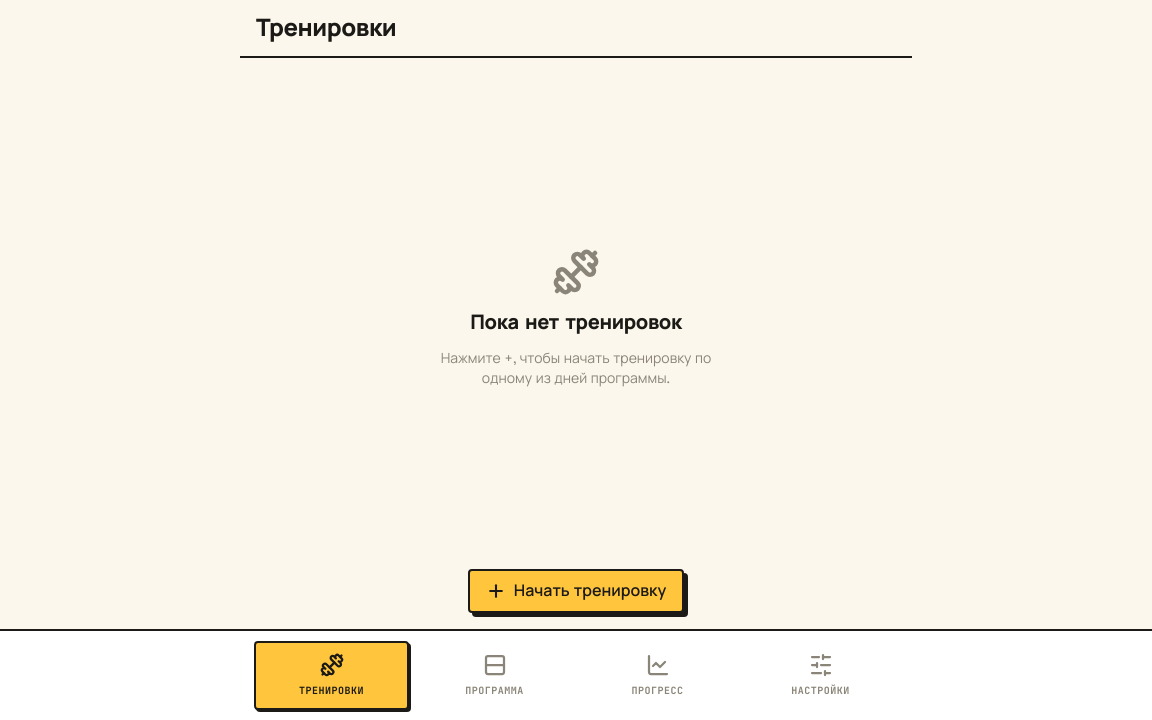
Test: Inline workout loop › finishing confirms in a bottom drawer and returns to the list
Click the button "Начать тренировку". click: (576,591)
box: 468,569 -> 684,613
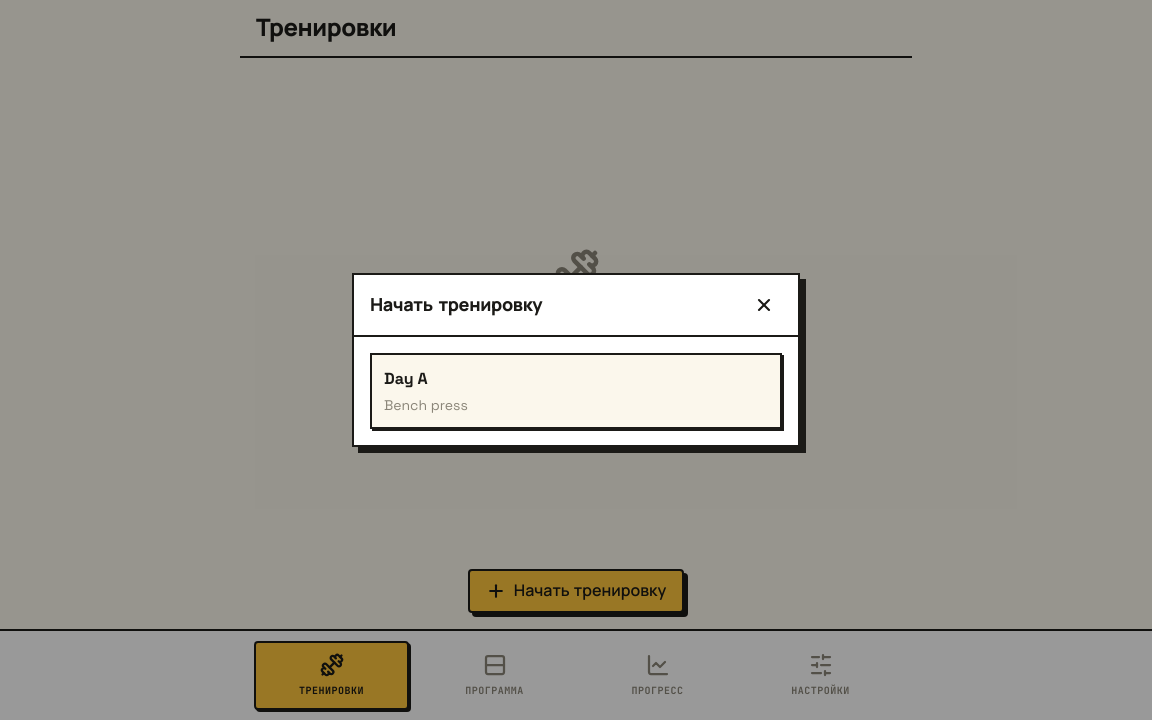
Click the button "Day A Bench press". click: (406,378)
box: 370,353 -> 782,429
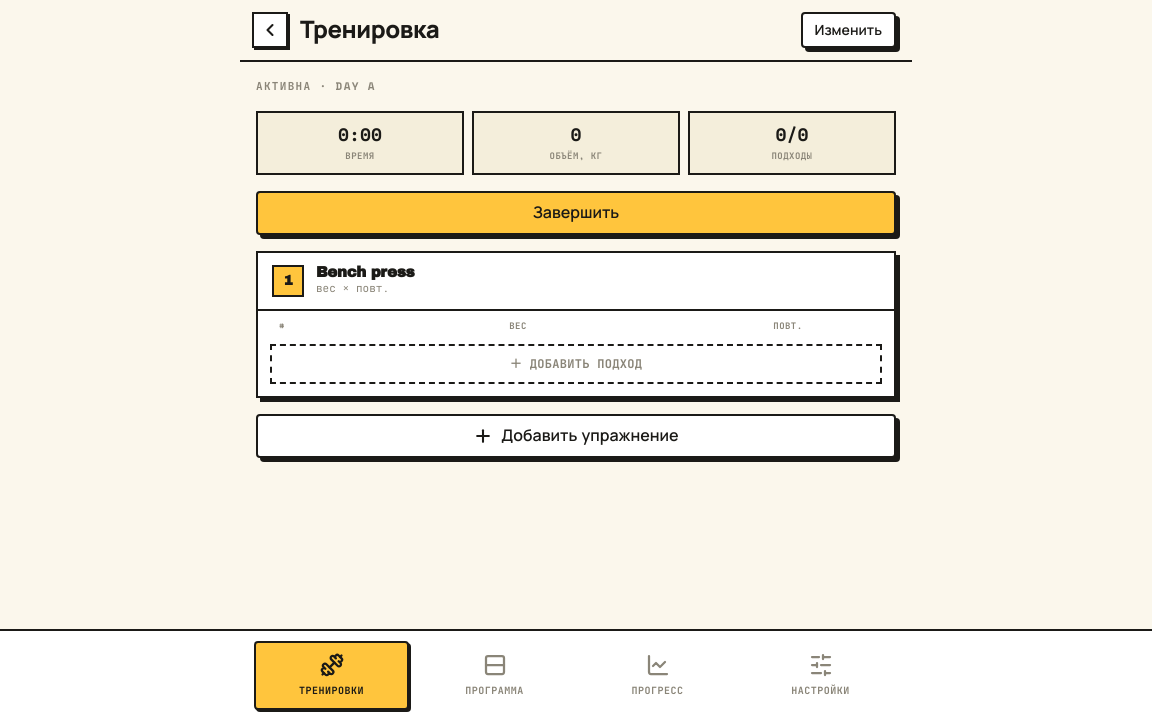
Expected: the text "Bench press" is shown, 316,264 -> 414,280
Expected: the dialog is gone
Click the button "Завершить". click: (576,212)
box: 256,190 -> 896,234
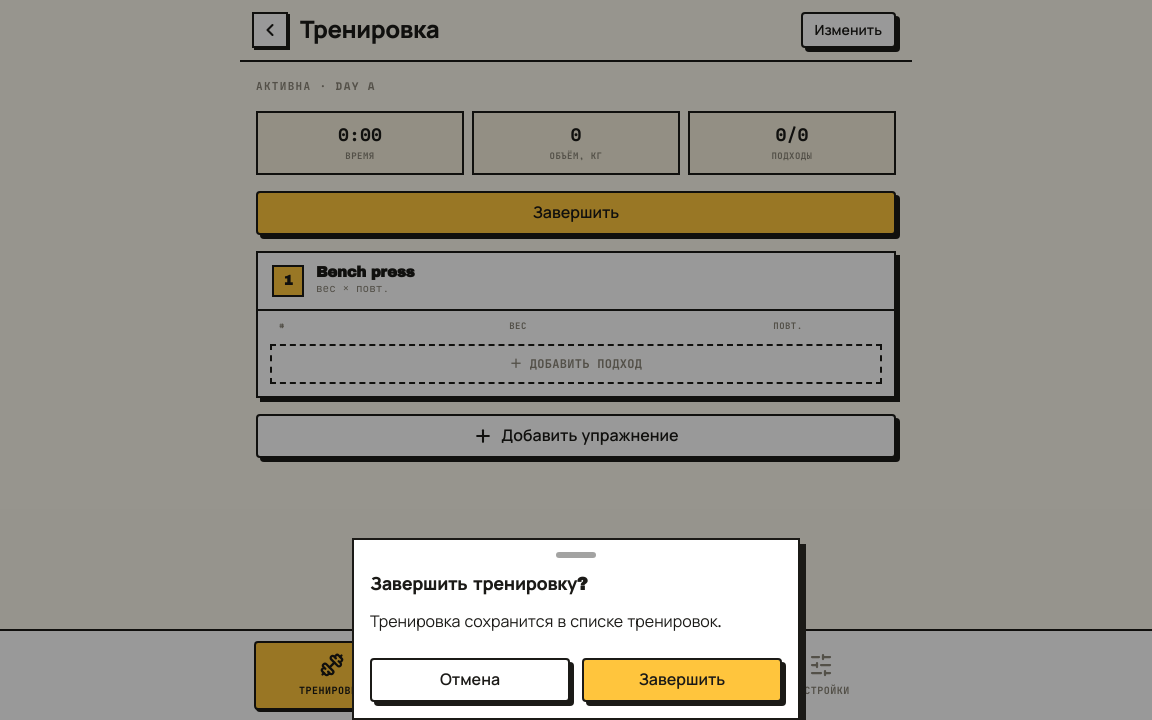
Click the button "Завершить". click: (682,680)
box: 582,658 -> 782,702
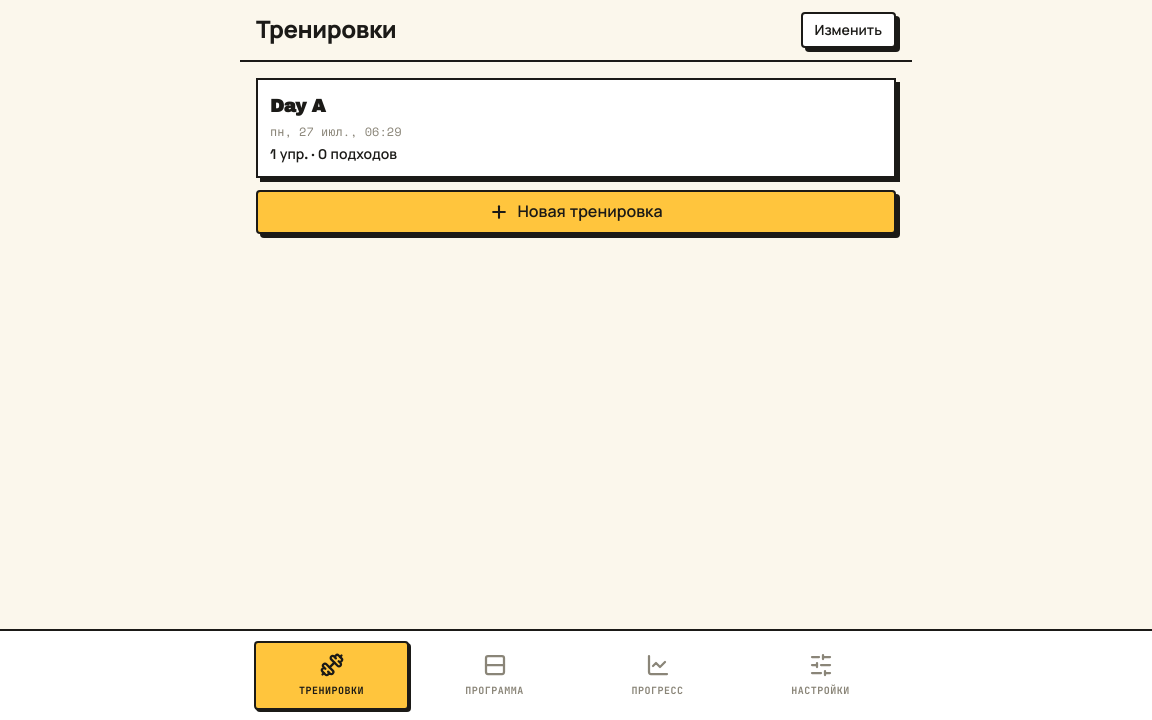
Expected: the heading "Тренировки" is shown, 256,17 -> 396,43
Expected: the text "Day A" is shown, 270,96 -> 325,116
